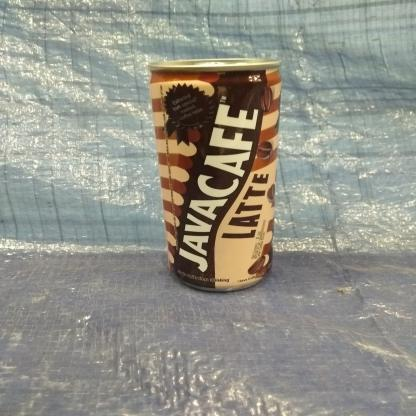can: (141, 51, 290, 294)
